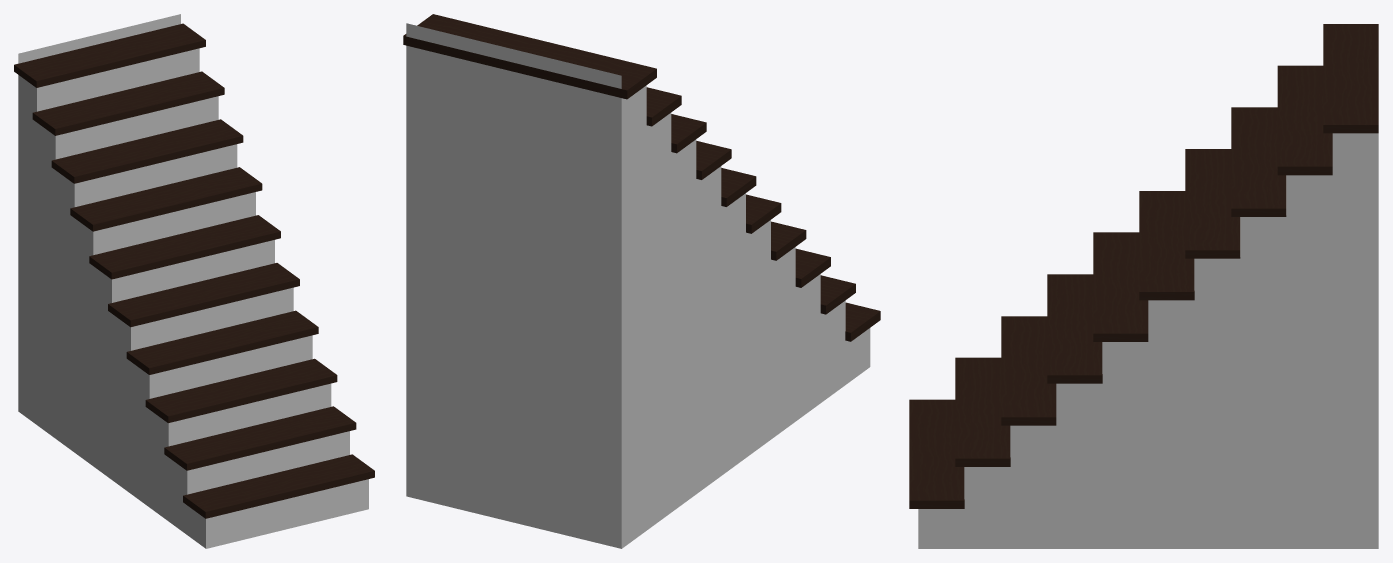
File: Stairs_White_02_A.FBX
The picture shows the model from 3 angles, left to right: view 1: azimuth 30°, elevation 25°; view 2: azimuth 150°, elevation 25°; view 3: azimuth 270°, elevation 25°; orthographic projection. The views are drawn at different scales.
Parts seen in each view (by area): view 1: Stairway_5m_x_2p5m; view 2: Stairway_5m_x_2p5m; view 3: Stairway_5m_x_2p5m.
Part boxes in pixels (box(x1,y1,x2,y2)): Stairway_5m_x_2p5m: box(14, 14, 374, 548); Stairway_5m_x_2p5m: box(403, 14, 880, 548); Stairway_5m_x_2p5m: box(909, 24, 1378, 548).
Size of the model in its own units: 10236 by 20669 by 20076.
